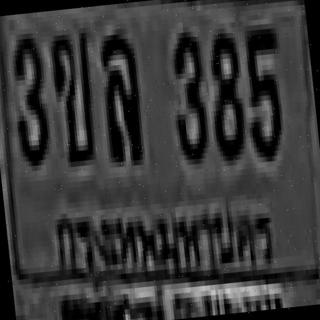A02: (46, 22, 99, 163)
A36: (95, 28, 142, 158)
N03: (5, 28, 50, 162), (165, 26, 210, 160)
N05: (238, 23, 286, 158)
N08: (202, 27, 245, 157)
P04: (46, 177, 279, 304)
